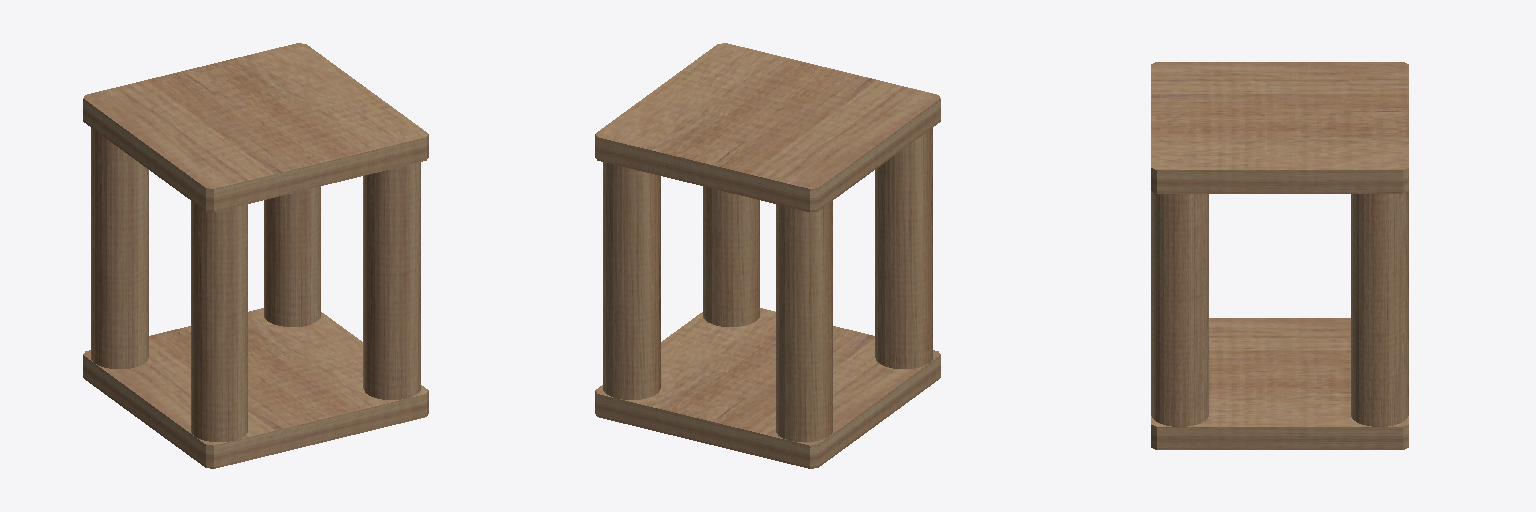
The picture shows the model from 3 angles: view 1: azimuth 30°, elevation 25°; view 2: azimuth 150°, elevation 25°; view 3: azimuth 270°, elevation 25°; orthographic projection.
Parts seen in each view (by area): view 1: holder; view 2: holder; view 3: holder.
Boxes of the visible parts, x1,y1,x2,y2 form: holder: [83, 43, 428, 468]; holder: [595, 43, 940, 468]; holder: [1151, 62, 1408, 449].
Size of the model in its own units: 2 by 2.4 by 2.
Materials: 1 (1 with a texture image).